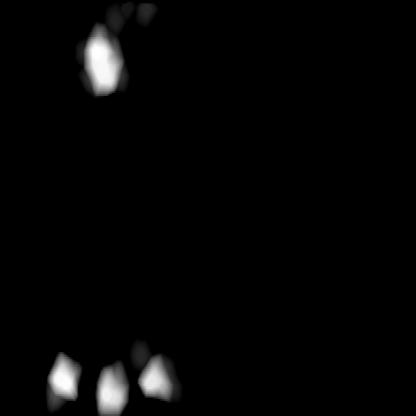fingers: (78, 27, 124, 96)
palm: (43, 346, 172, 414)
